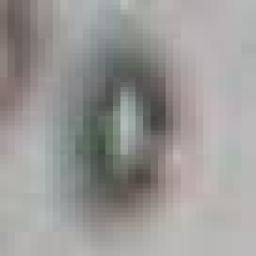crystals: (76, 58, 172, 207)
